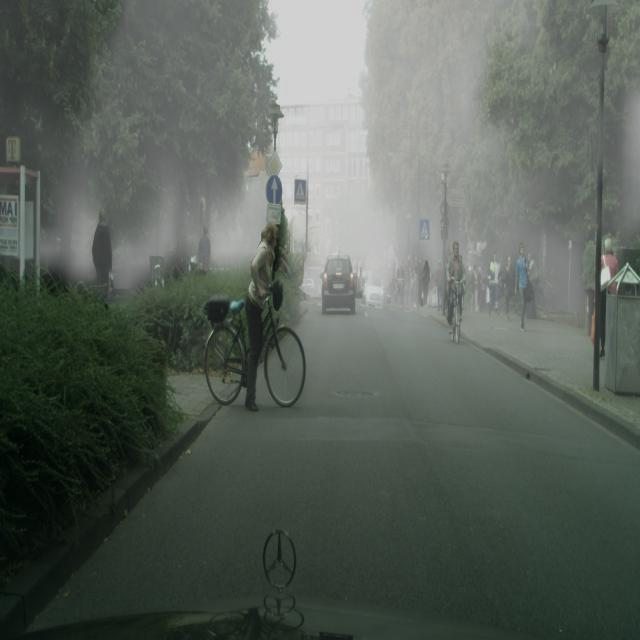car: (203, 292, 306, 410), (449, 277, 462, 343)
person: (244, 220, 281, 411), (597, 235, 619, 358), (91, 206, 113, 299), (446, 239, 466, 329), (514, 243, 529, 331), (526, 249, 538, 319), (502, 254, 514, 320), (488, 251, 500, 316), (198, 224, 212, 274), (477, 261, 488, 314), (422, 261, 431, 308), (413, 258, 421, 310), (435, 258, 443, 309), (470, 263, 478, 310)
truck: (322, 254, 356, 314), (362, 278, 385, 306), (302, 277, 317, 298)
